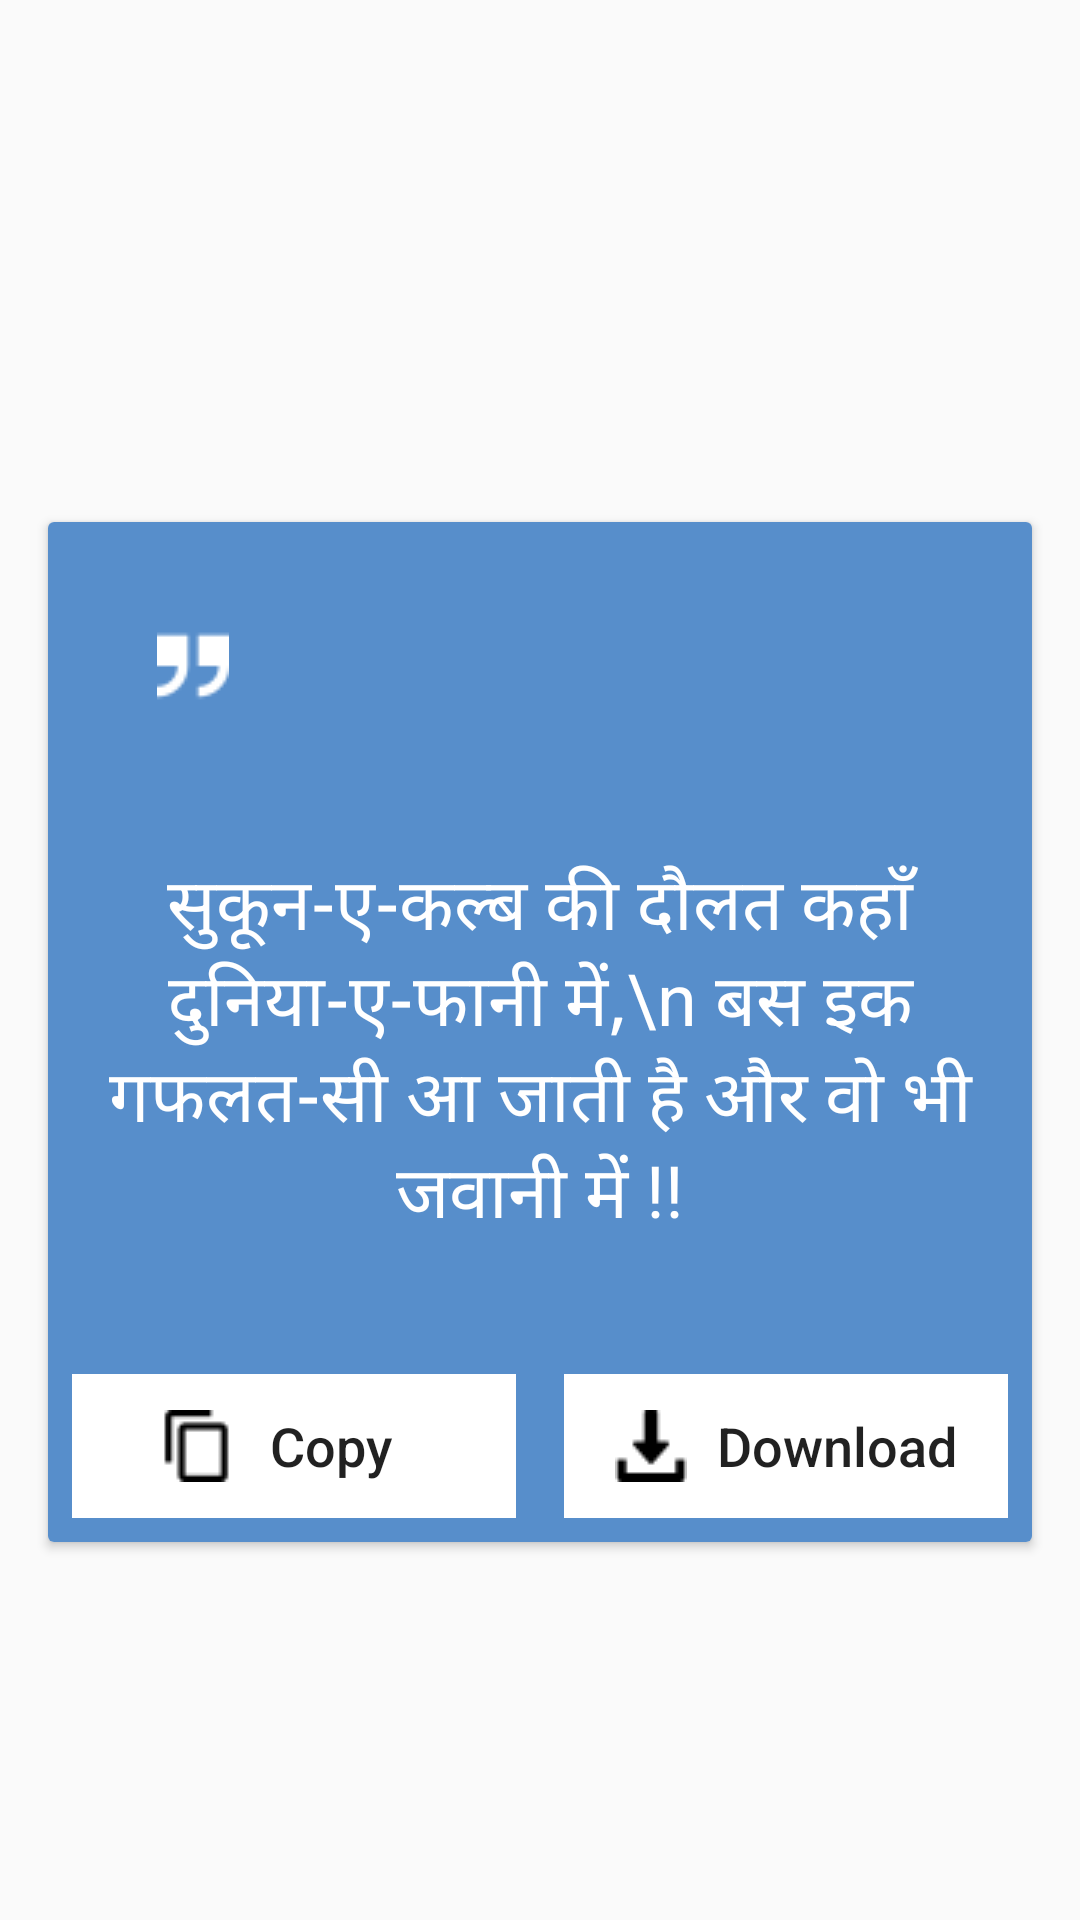

Icons on this 1080×1920 Android screen, each with its box as [left=x1, top=y1, right=x2, bottom=y2]:
quote: [left=157, top=633, right=229, bottom=699]
